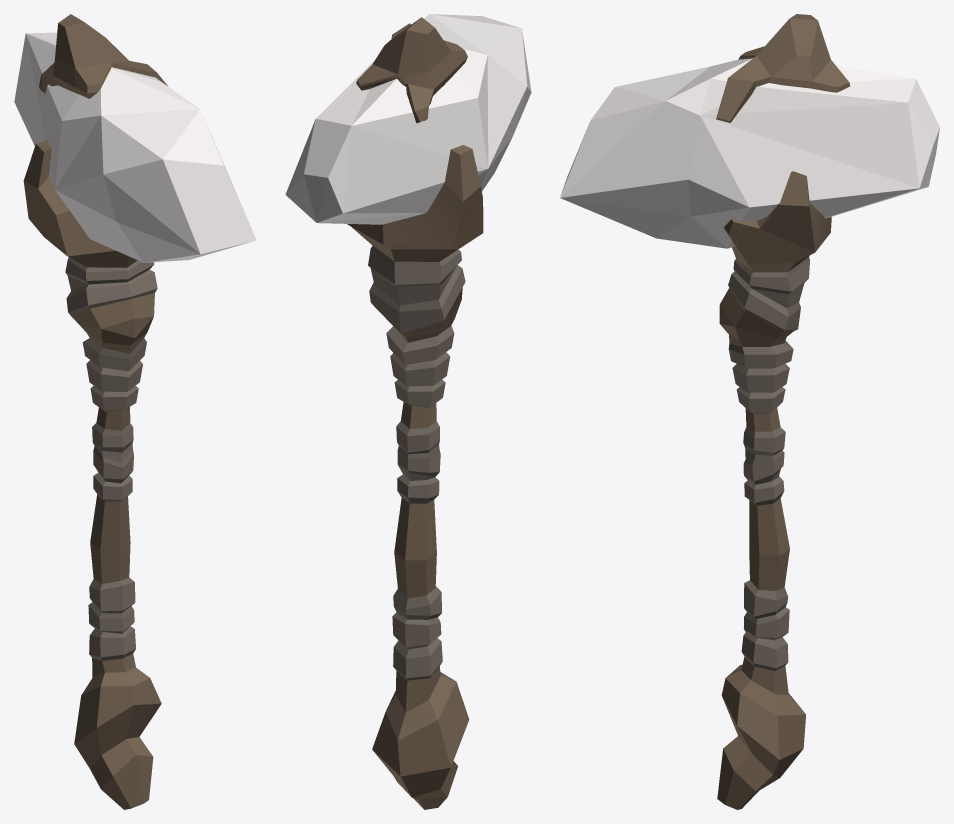
The model's file is axe.glb.
The picture shows the model from 3 angles, left to right: view 1: azimuth 30°, elevation 25°; view 2: azimuth 150°, elevation 25°; view 3: azimuth 270°, elevation 25°; orthographic projection. The views are drawn at different scales.
Visible parts, largest first — view 1: SM_Wep_Goblin_Gem_Hammer_01; view 2: SM_Wep_Goblin_Gem_Hammer_01; view 3: SM_Wep_Goblin_Gem_Hammer_01.
Boxes of the visible parts, x1=… form: SM_Wep_Goblin_Gem_Hammer_01: x1=14, y1=14, x2=256, y2=809; SM_Wep_Goblin_Gem_Hammer_01: x1=285, y1=14, x2=531, y2=809; SM_Wep_Goblin_Gem_Hammer_01: x1=560, y1=14, x2=939, y2=809.
Bounding box in the file's own units: 0.00273 × 0.0146 × 0.00643.
Materials: 1 (1 with a texture image).
